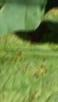Tomato Septoria leaf spot: (0, 28, 58, 102)
